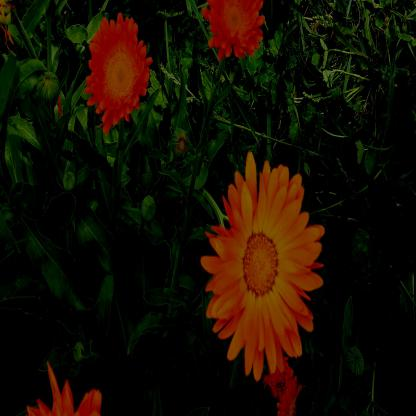marigold: (210, 166, 318, 369), (91, 18, 145, 119)
